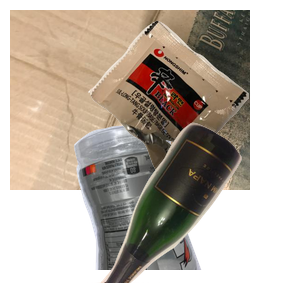cardboard: (10, 10, 250, 190)
glass: (87, 120, 300, 300)
plastic: (71, 120, 265, 300)
trash: (86, 18, 300, 194)
